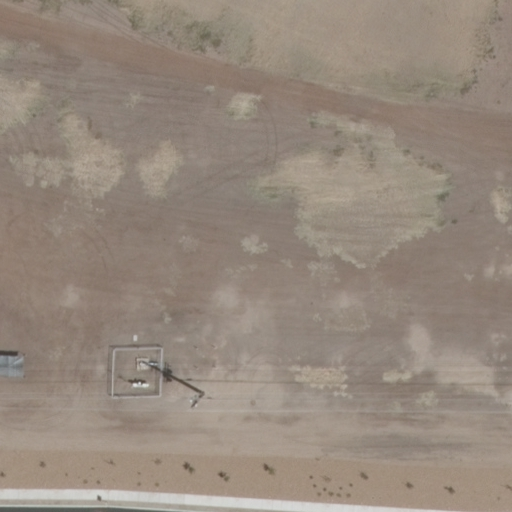DT: (185, 384, 210, 411)
